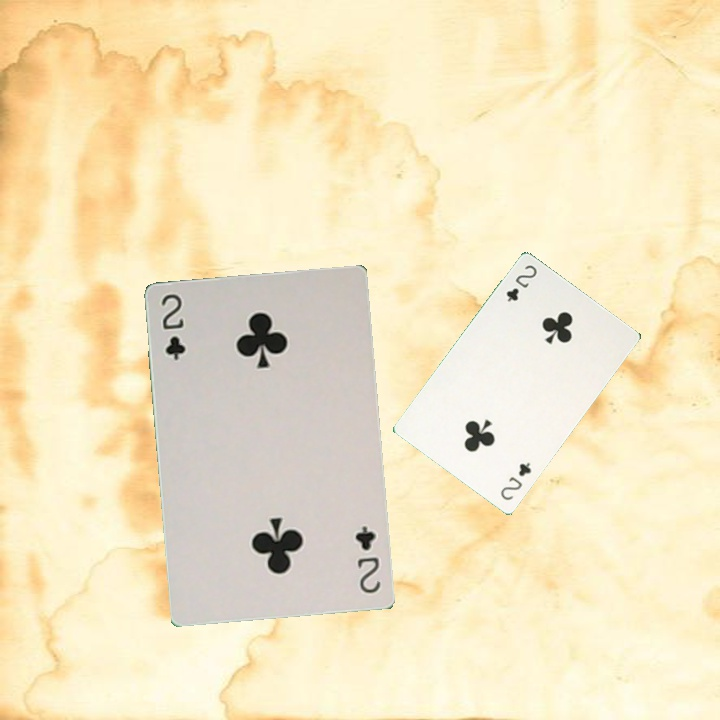2c: (351, 521, 383, 596), (157, 290, 188, 363), (496, 458, 534, 503), (502, 261, 540, 304)
